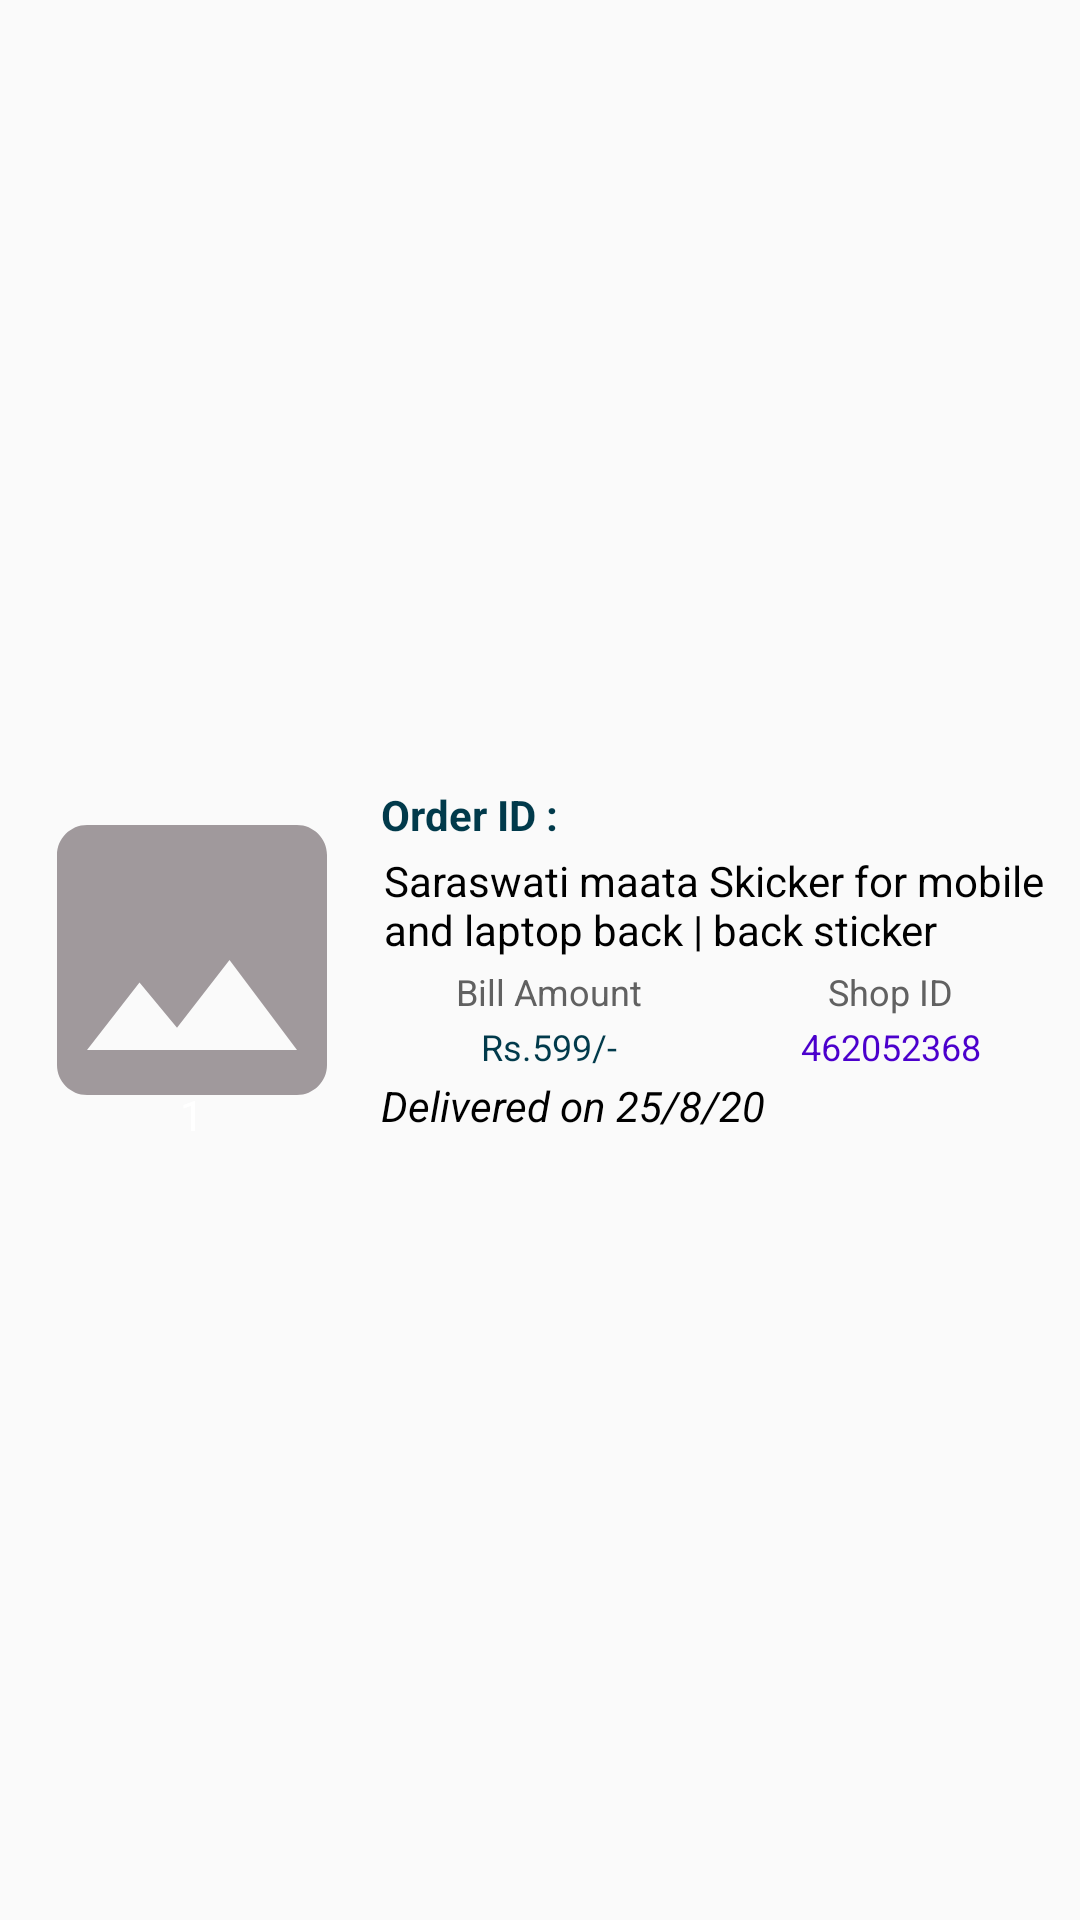

Icon bounding boxes for this 1080*1920 phone screenshot, format (x1, y1, x2, y2):
photo: (57, 825, 327, 1095)
